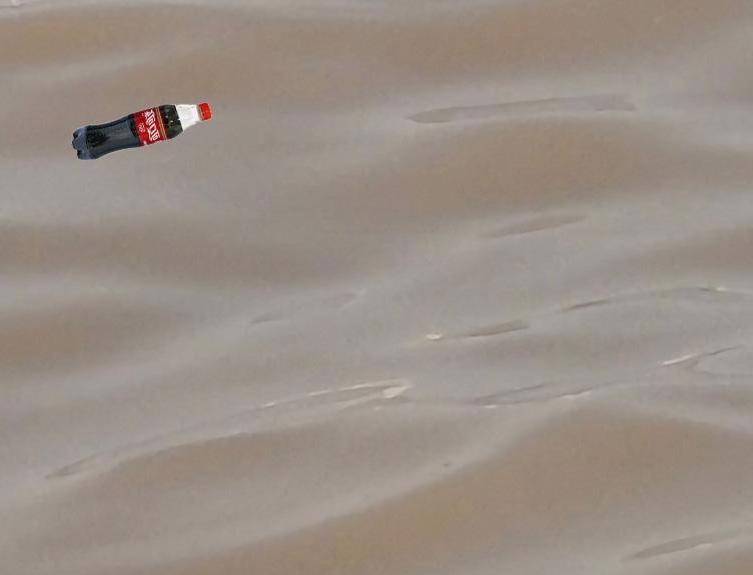Plastic: (74, 95, 214, 165)
